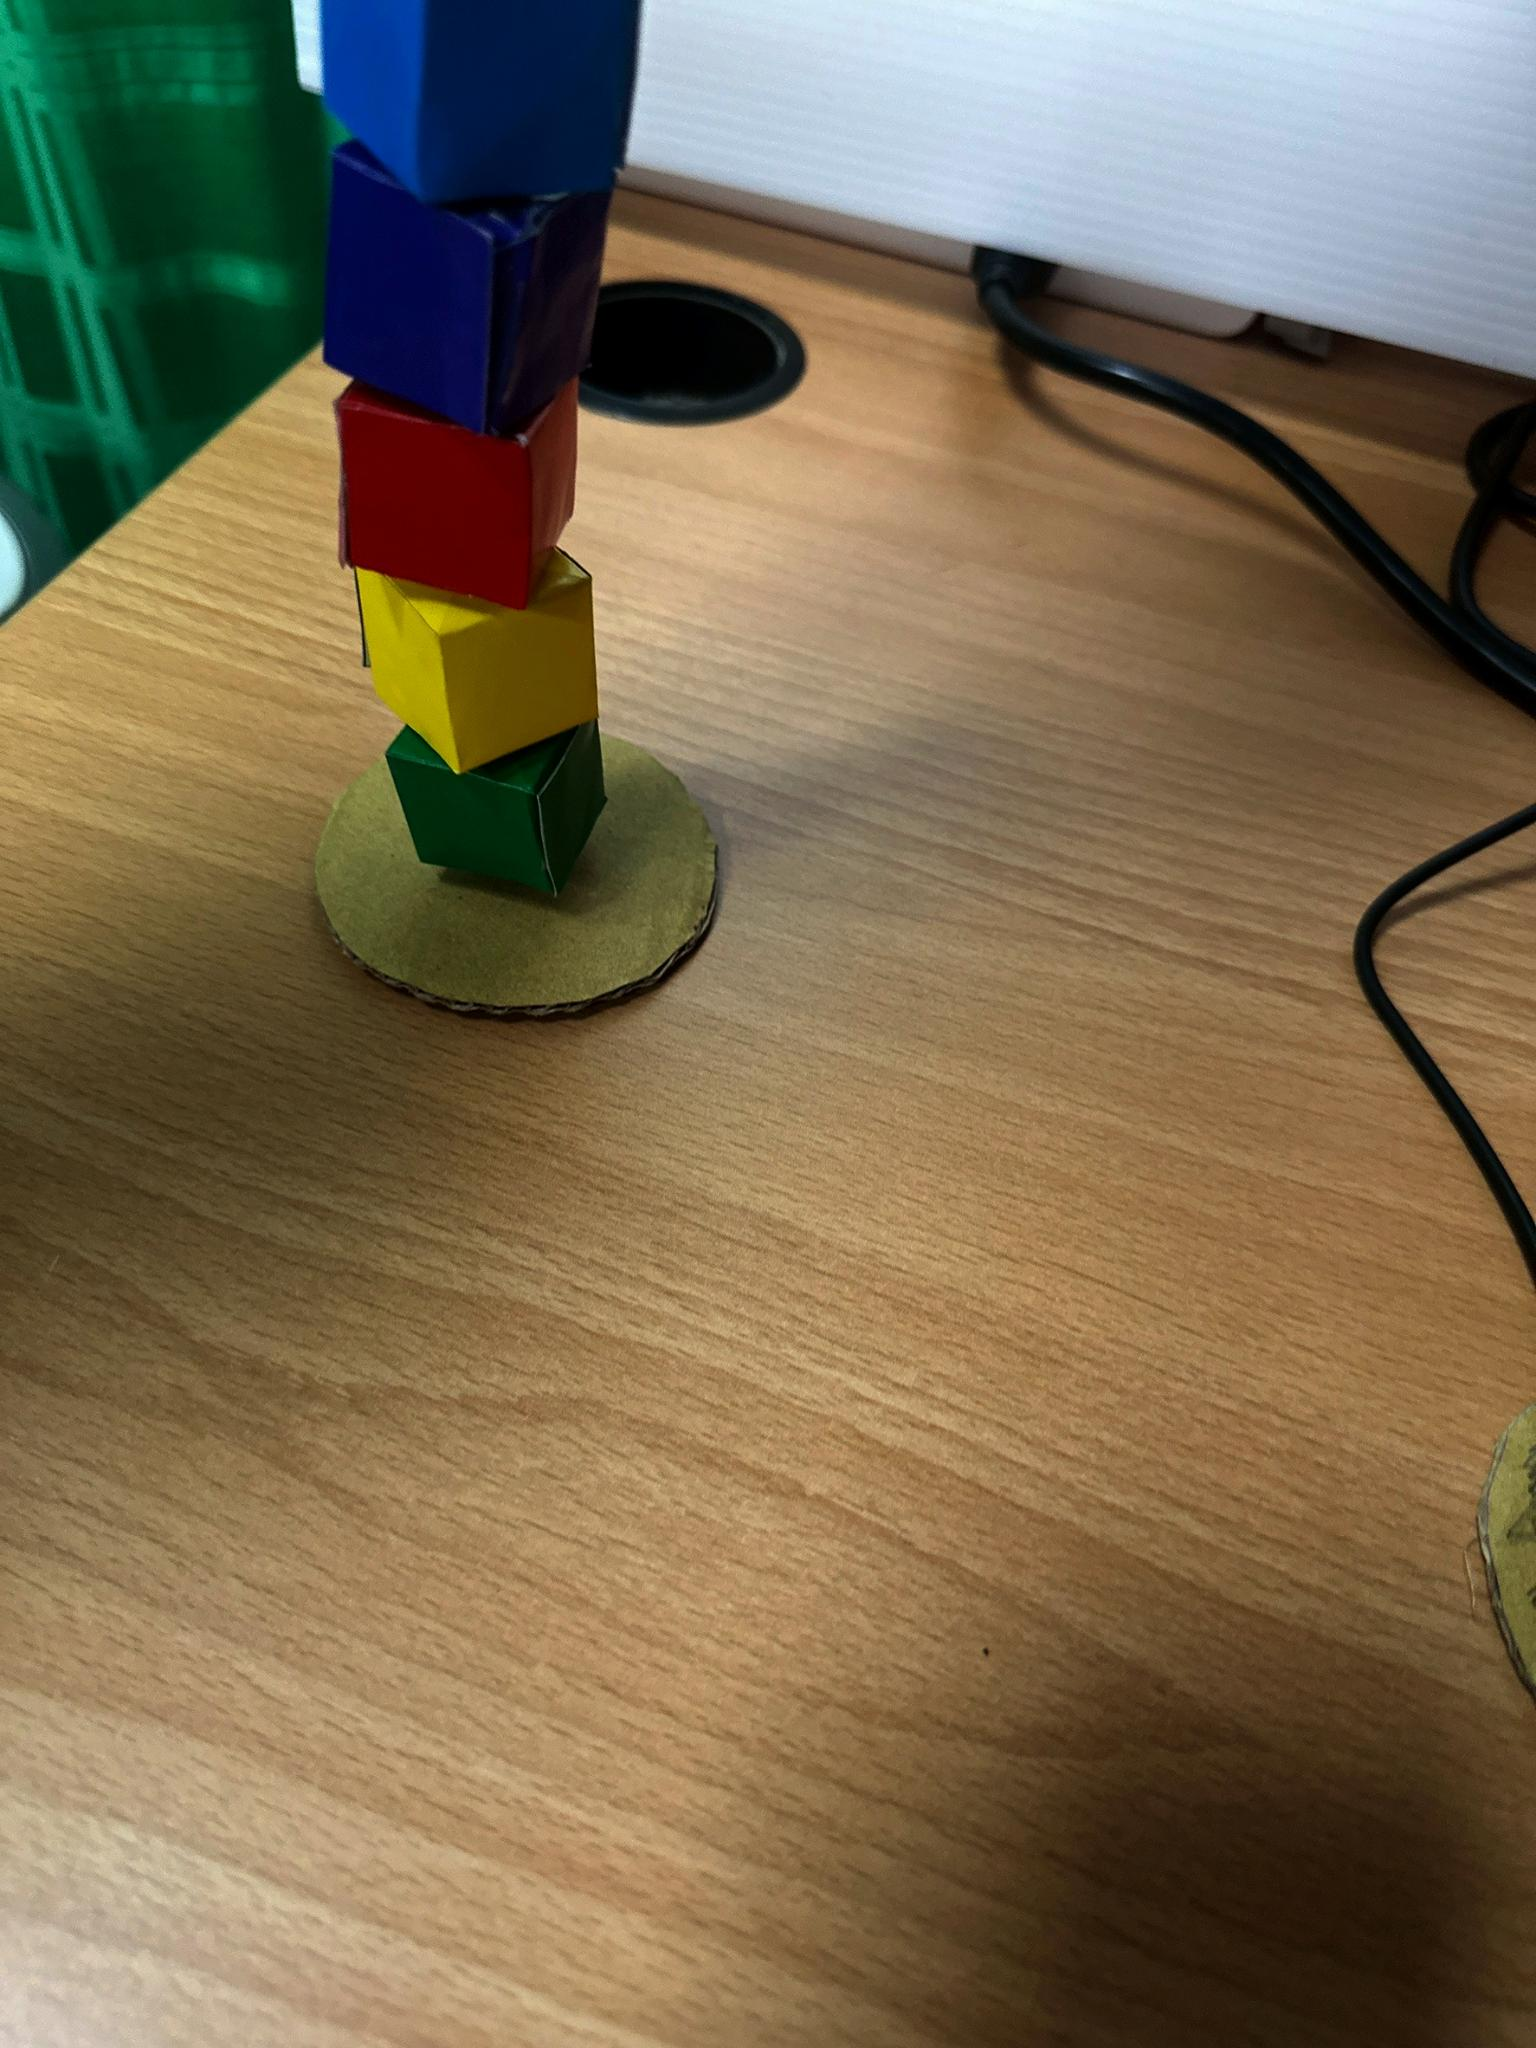base: (316, 737, 716, 1011)
